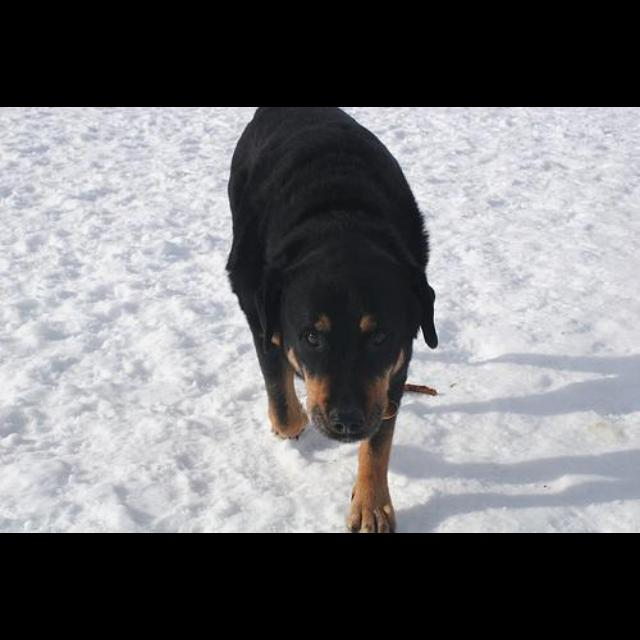rottweiler: (226, 108, 441, 532)
